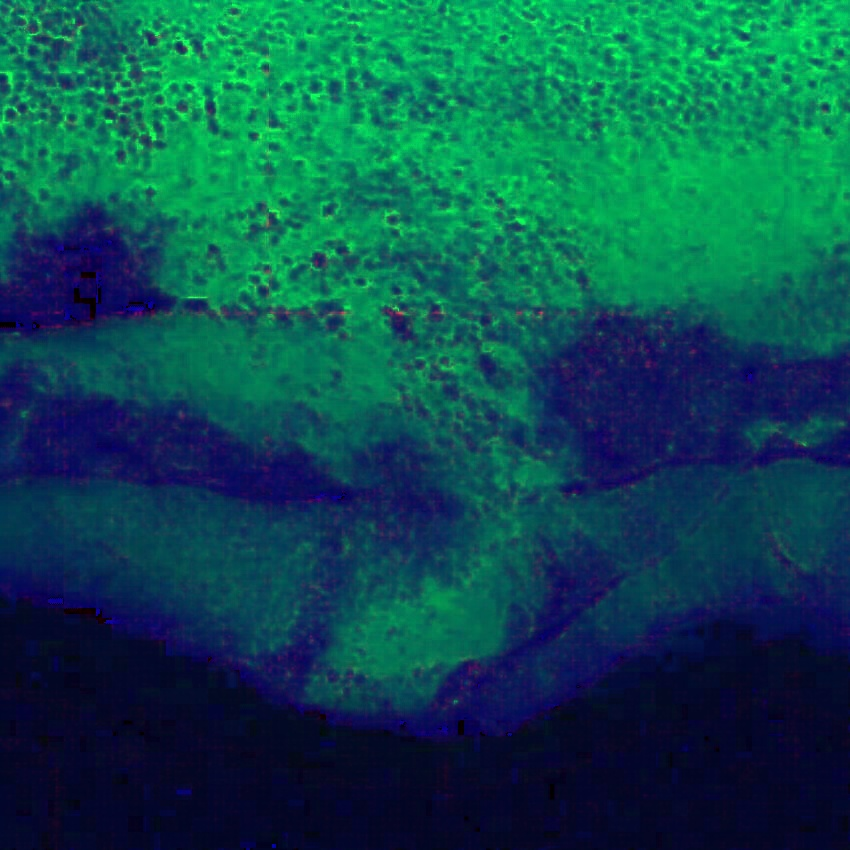rip_current: (317, 218, 600, 657)
